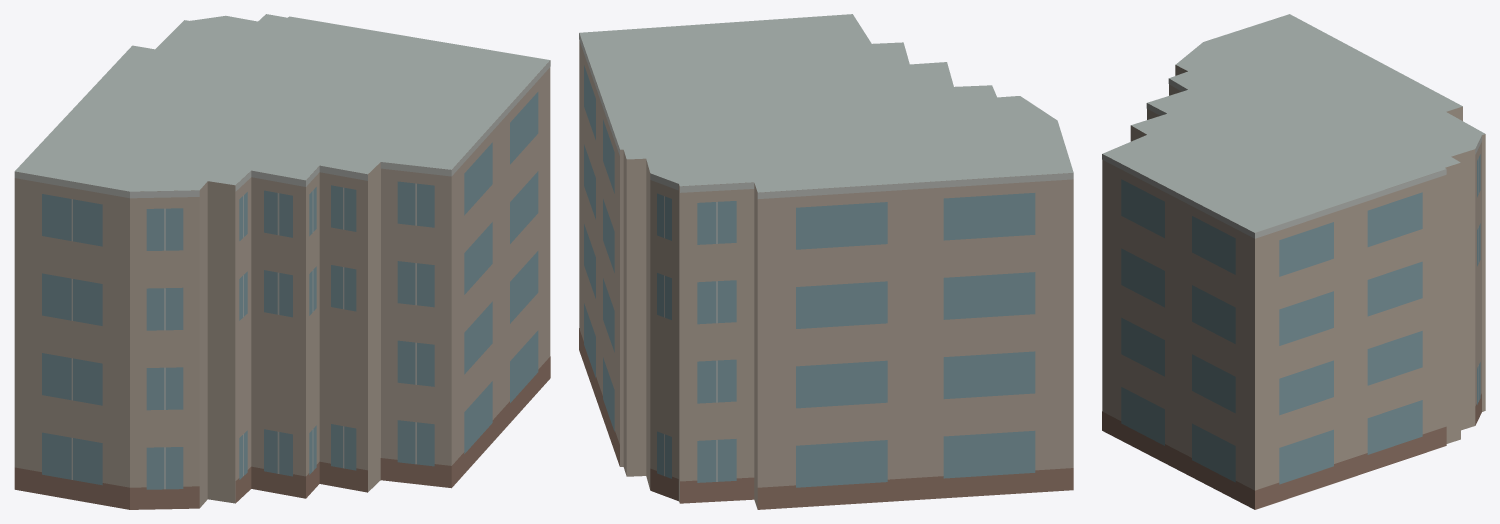
The model's file is survey-upis-32781328.glb.
The picture shows the model from 3 angles, left to right: view 1: azimuth 30°, elevation 25°; view 2: azimuth 150°, elevation 25°; view 3: azimuth 270°, elevation 25°; orthographic projection. The views are drawn at different scales.
Visible parts, largest first — view 1: survey-upis-32781328.tmp; view 2: survey-upis-32781328.tmp; view 3: survey-upis-32781328.tmp.
Boxes of the visible parts, x1,y1,x2,y2 form: survey-upis-32781328.tmp: (14, 14, 550, 509); survey-upis-32781328.tmp: (579, 14, 1073, 509); survey-upis-32781328.tmp: (1102, 14, 1485, 509).
Size of the model in its own units: 19.86 by 11.7 by 14.69.
